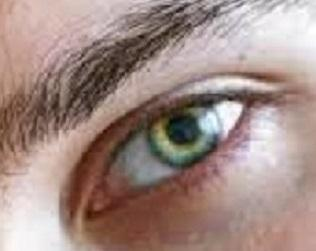open: (9, 47, 309, 248)
